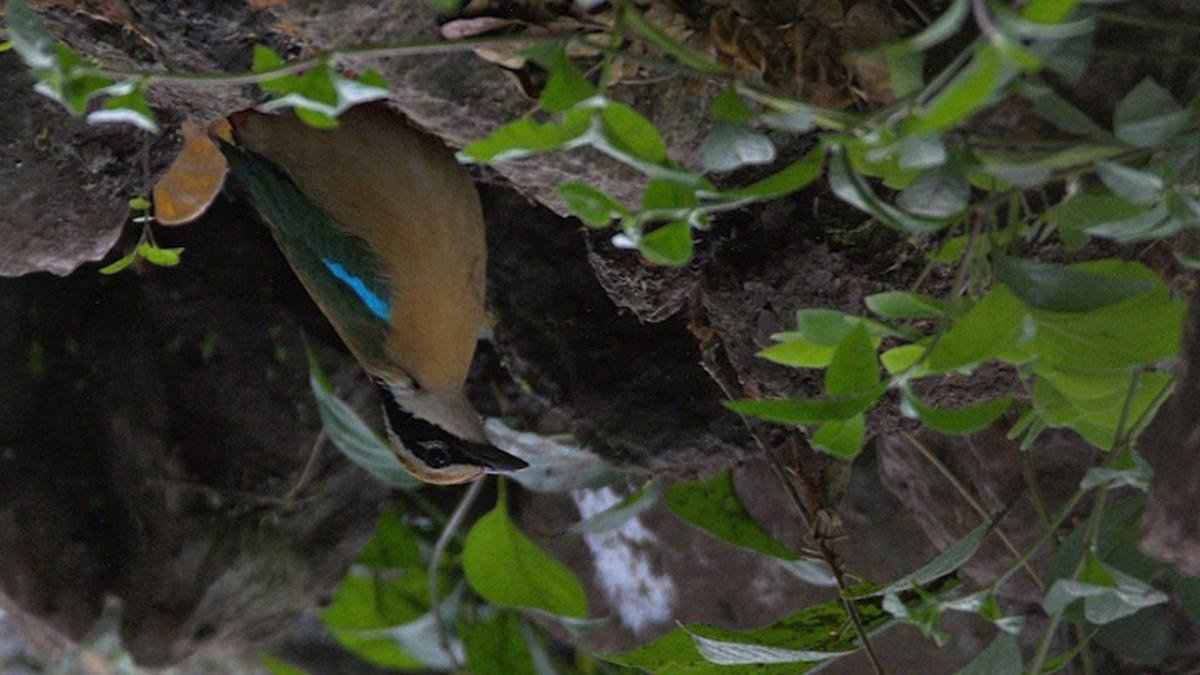pitta: (225, 87, 543, 518)
